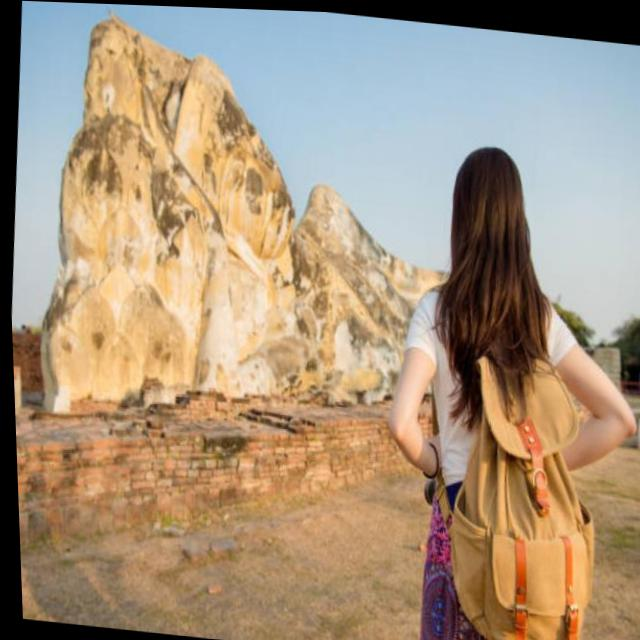no helmet: (431, 134, 553, 291)
